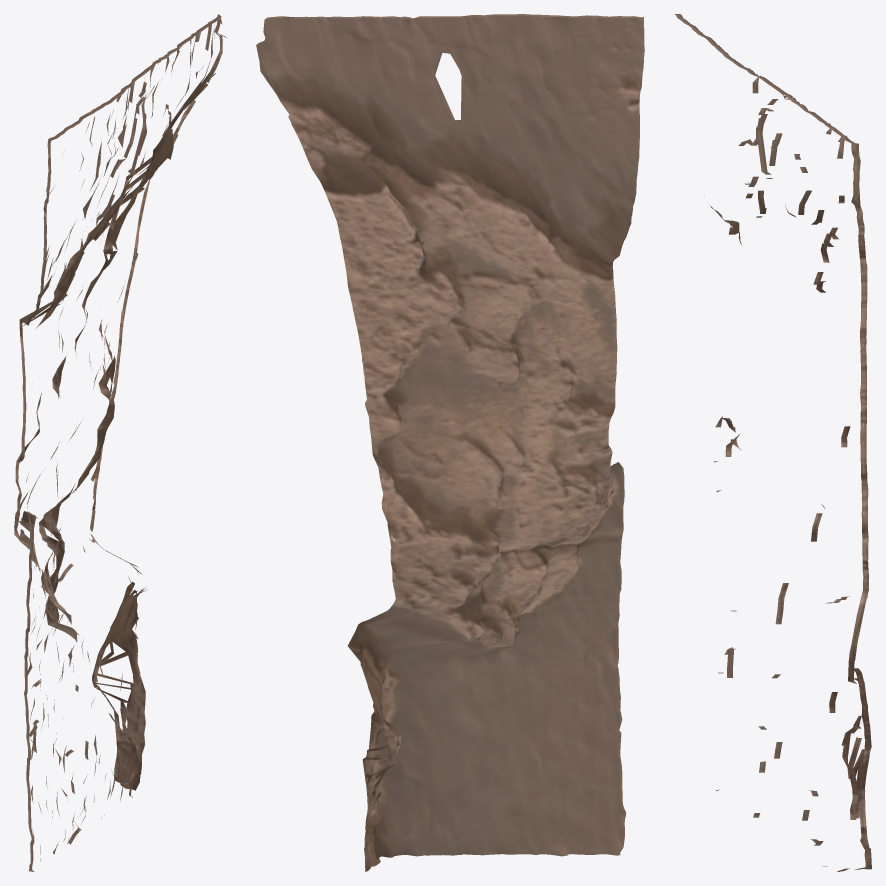
The picture shows the model from 3 angles, left to right: view 1: azimuth 30°, elevation 25°; view 2: azimuth 150°, elevation 25°; view 3: azimuth 270°, elevation 25°; orthographic projection. The views are drawn at different scales.
Size of the model in its own units: 0.5381 by 1.46 by 0.3386.
1 material, 1 textured.
